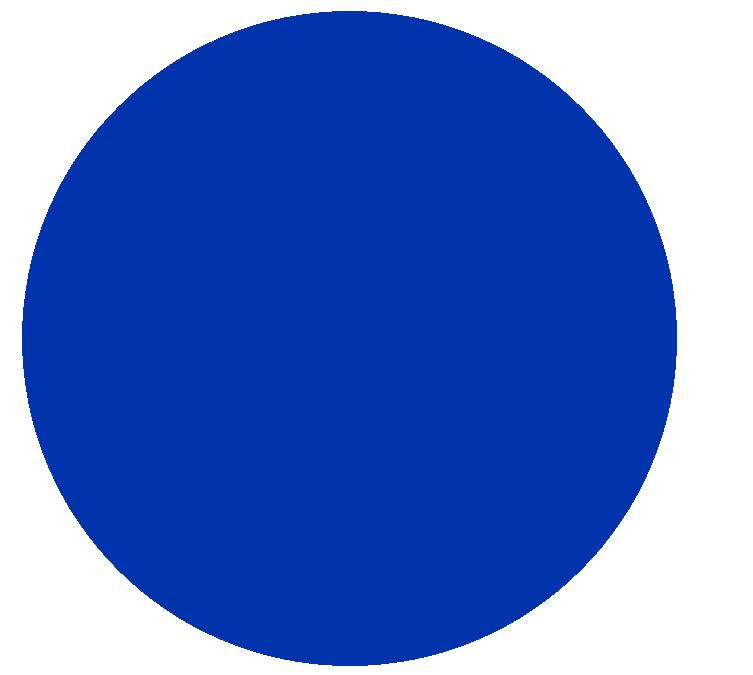blue_circle: (0, 0, 674, 669)
